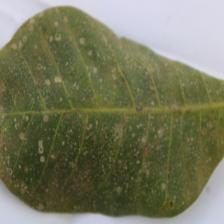red rust: (0, 4, 223, 217)
